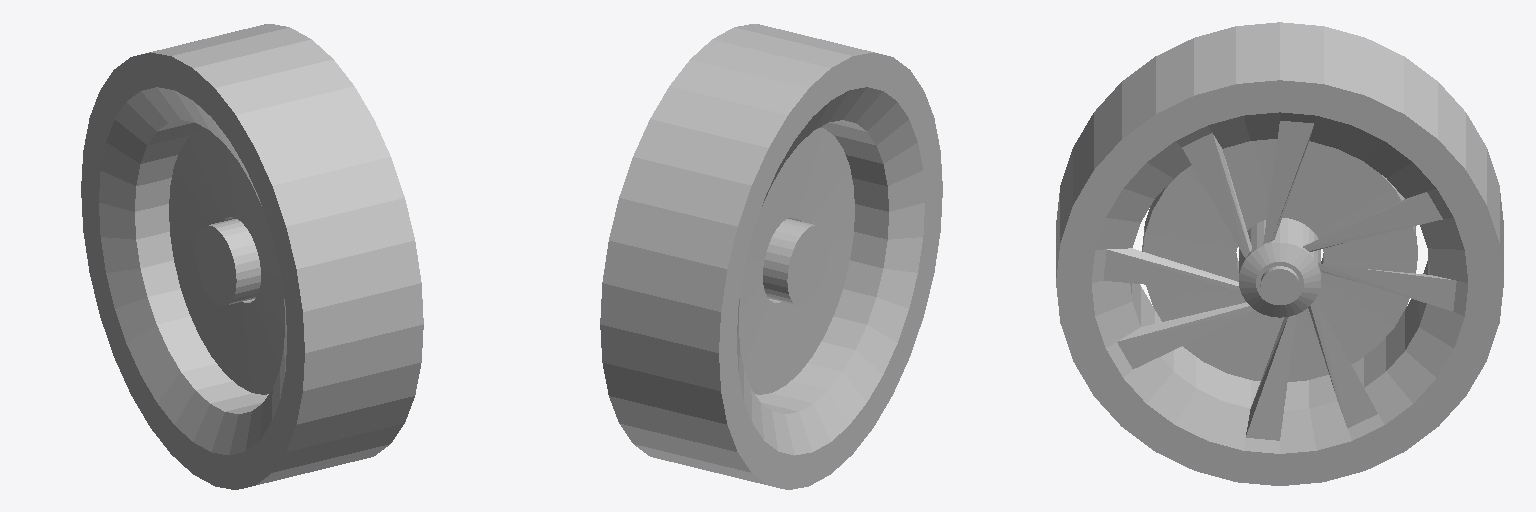
The model's file is wheel1.obj.
3 renders of one model, left to right at view 1: azimuth 30°, elevation 25°; view 2: azimuth 150°, elevation 25°; view 3: azimuth 270°, elevation 25°, orthographic.
Visible parts, largest first — view 1: Cylinder; view 2: Cylinder; view 3: Cylinder.
Boxes of the visible parts, x1=… form: Cylinder: x1=81, y1=24, x2=423, y2=489; Cylinder: x1=600, y1=24, x2=942, y2=489; Cylinder: x1=1056, y1=22, x2=1503, y2=485.
Bounding box in the file's own units: 0.1378 × 0.4249 × 0.4249.